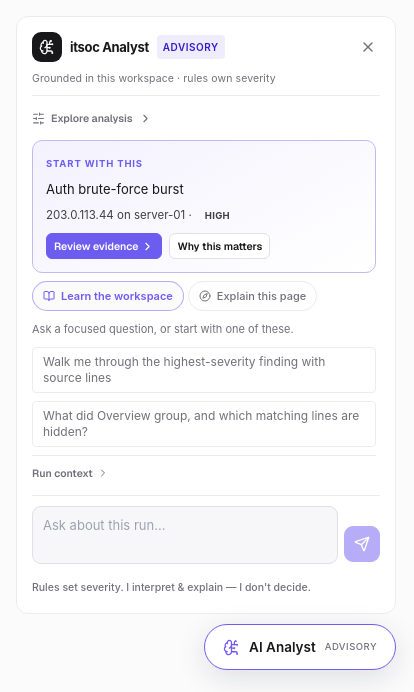
Test case: CB-1 — learned second opinion in the copilot rail › says there is no sidecar rather than describing a training run it cannot see
The image size is (414, 692).
Type "How was this model trained?" into the text box at (185, 535), box [32,506,338,564]
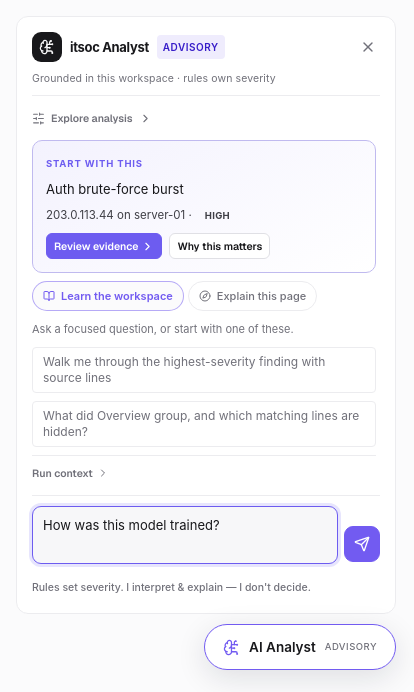
Click the button named "send" at (362, 544), box [344,526,380,562]
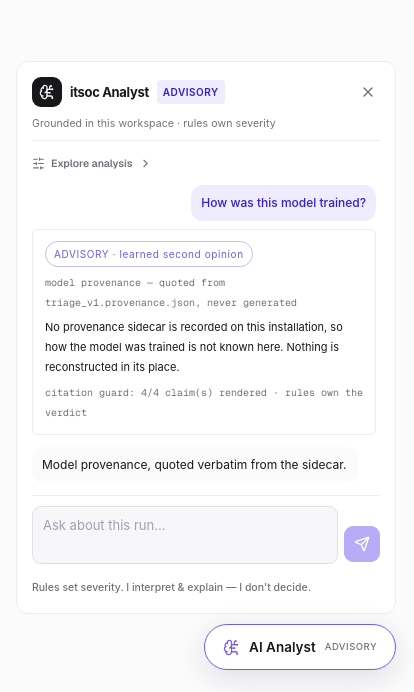
expect the text with test id "copilot-learned-unavailable" shows "No provenance sidecar is recorded": met, box [45,320,343,374]
